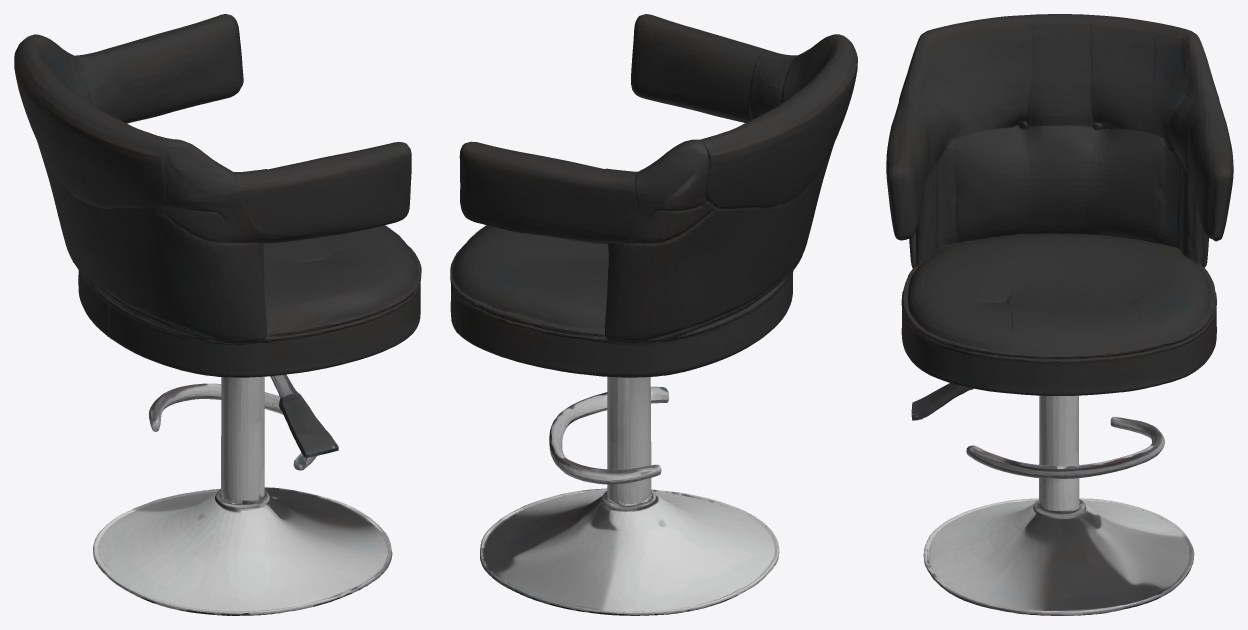
File: bar_stool_33.obj
The picture shows the model from 3 angles, left to right: view 1: azimuth 30°, elevation 25°; view 2: azimuth 150°, elevation 25°; view 3: azimuth 270°, elevation 25°; orthographic projection. The views are drawn at different scales.
Size of the model in its own units: 0.7063 by 1 by 0.6776.
Materials: 1 (1 with a texture image).
